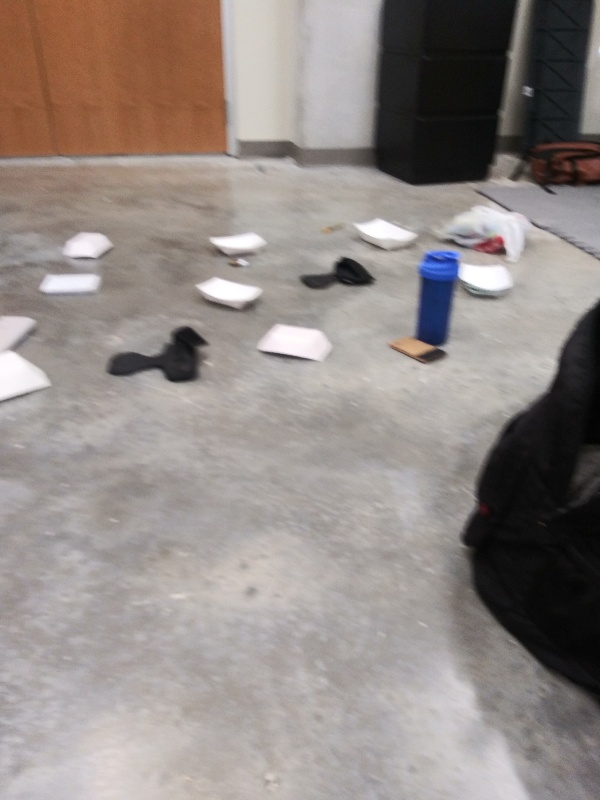plate: (251, 321, 336, 363), (1, 348, 56, 408), (192, 273, 267, 309), (348, 213, 419, 250), (455, 259, 519, 298), (56, 227, 116, 260), (206, 229, 272, 255)
